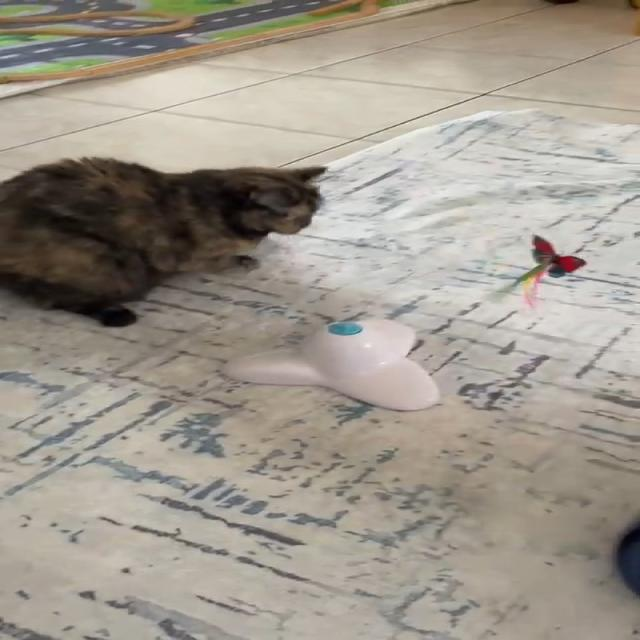authorized: (0, 154, 328, 328)
